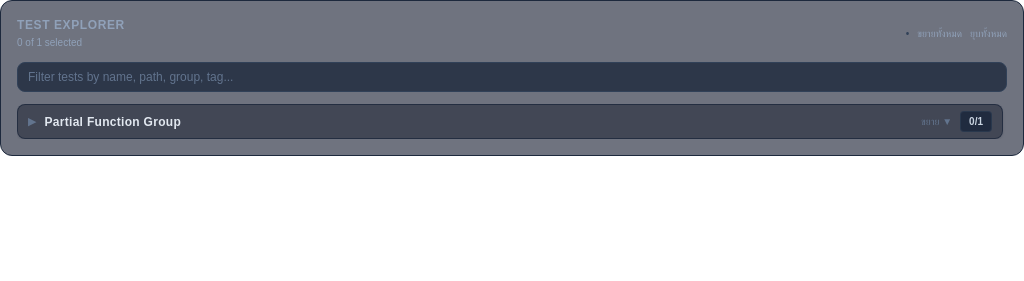
Test: TestExplorer Component › safely falls back to group.name and omits badge when metadata is malformed (only functionId present)
The width and height of the screenshot is (1024, 281).
Click the text "Partial Function Group": coordinates (113, 122) [44,114,181,130]
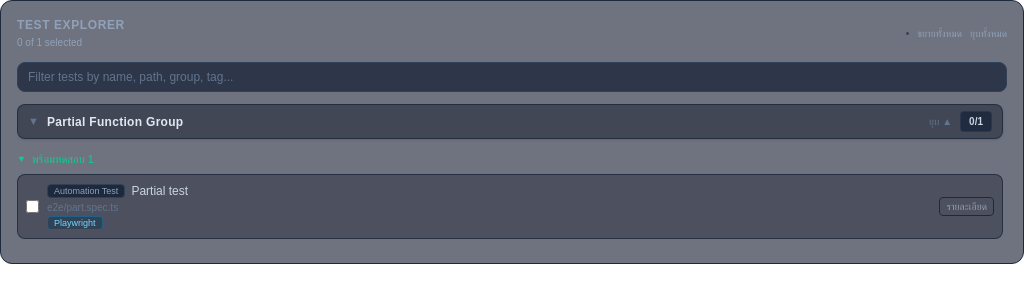
Expected: the text "Partial test" is shown, [131,182,188,198]
